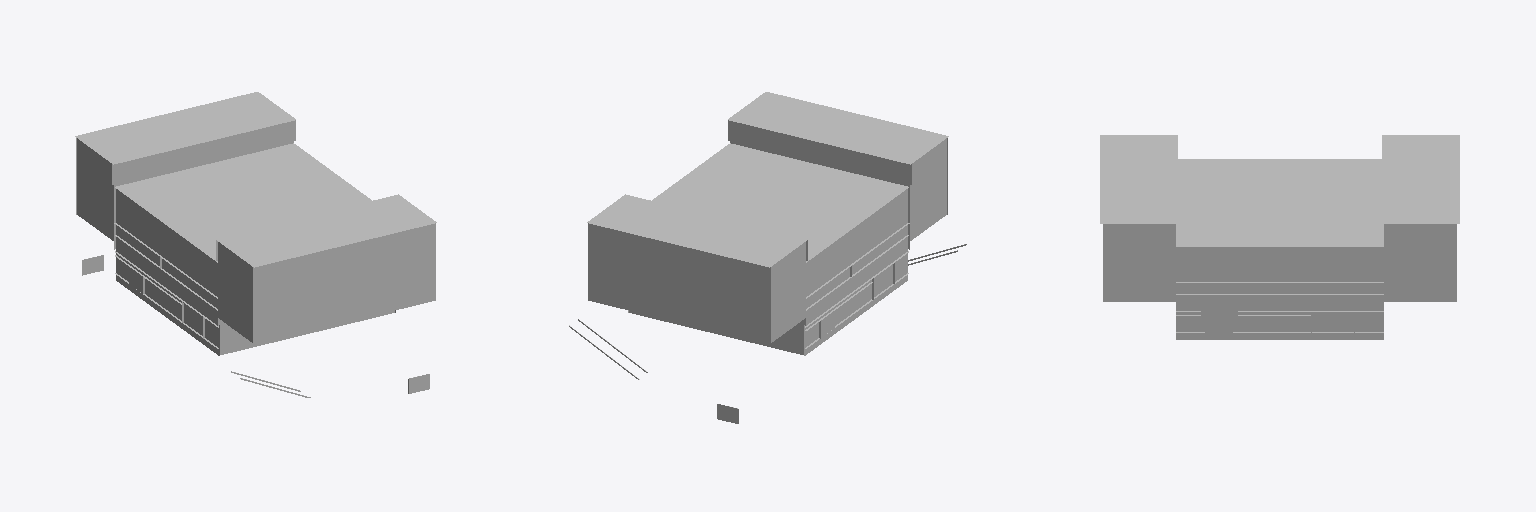
The model's file is maptest1.obj.
3 renders of one model, left to right at view 1: azimuth 30°, elevation 25°; view 2: azimuth 150°, elevation 25°; view 3: azimuth 270°, elevation 25°, orthographic.
Visible parts, largest first — view 1: cs480_final; view 2: cs480_final; view 3: cs480_final.
Part boxes in pixels (x1,y1,x2,y2): cs480_final: (75,92,436,397); cs480_final: (569,92,966,423); cs480_final: (1100,135,1459,339).
Bounding box in the file's own units: 1840 × 1248 × 3007.